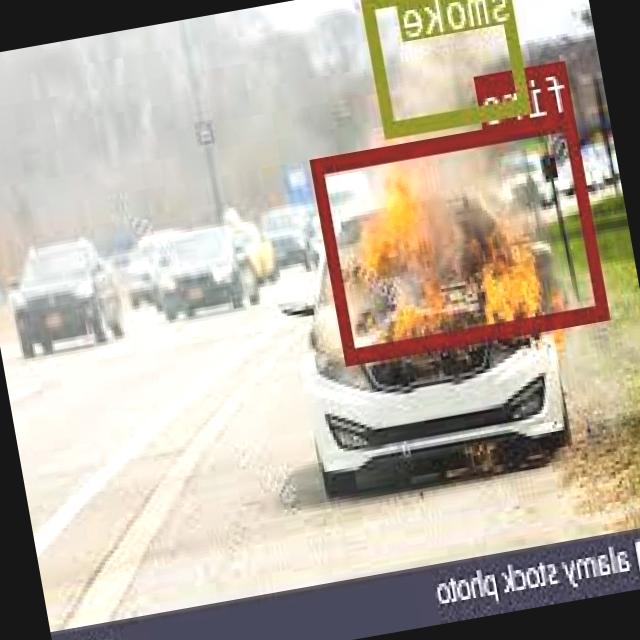fire: (311, 111, 612, 362)
smoke: (363, 0, 531, 135)
